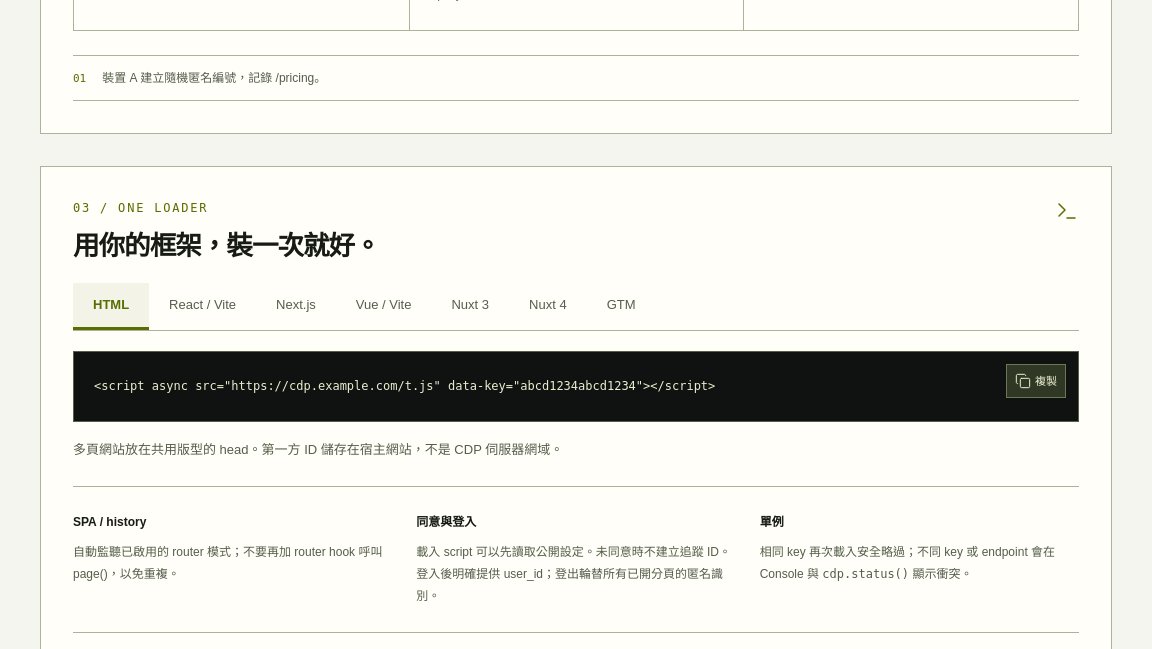
框架教學提供 Next 根版型且不重複送 router pageview
(page scrolled)
What coordinates should you click on to do the following:
click the tab "Next.js"
I would click on:
 (296, 307)
Its box is [256, 283, 336, 330].
(page scrolled)
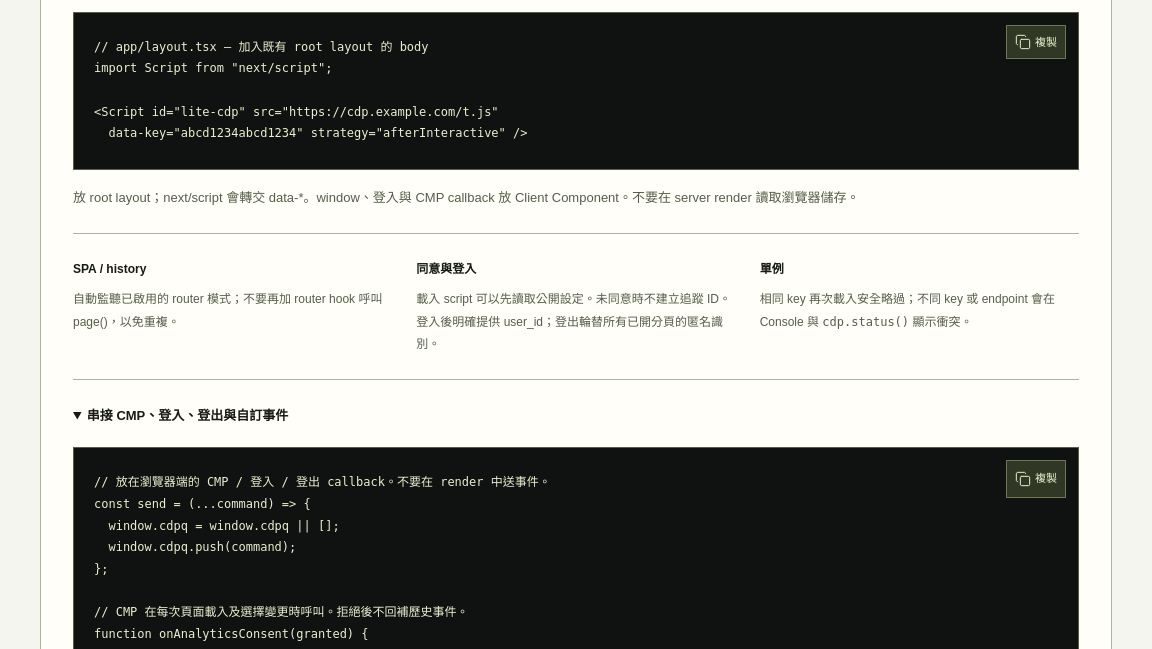
Expected: the text named "追蹤程式碼" shows "data-key=\"abcd1234abcd1234\"", [94, 40, 528, 140]
Expected: the text named "追蹤程式碼" shows "strategy=\"afterInteractive\"", [94, 40, 528, 140]
